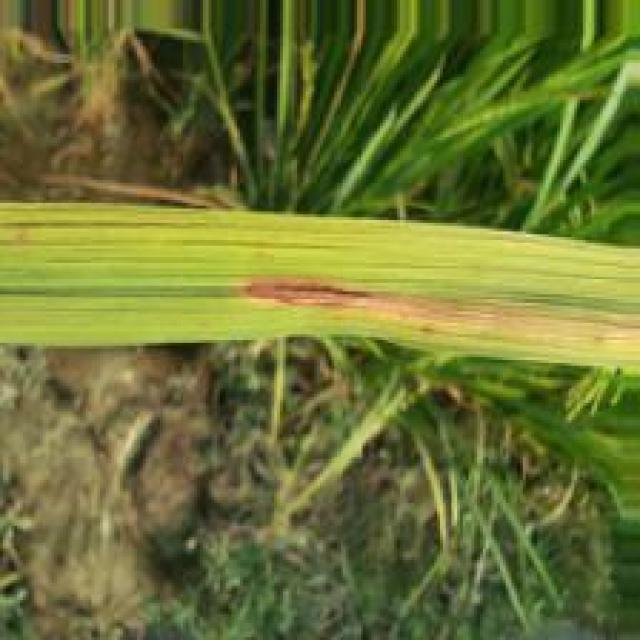Leaf_Blast: (238, 274, 640, 345)
